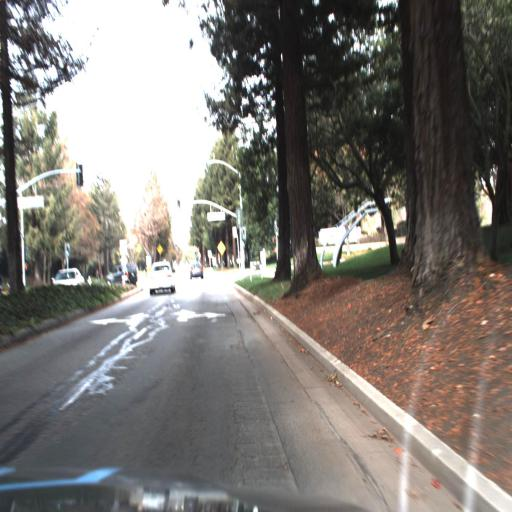car: (147, 259, 175, 298), (51, 266, 86, 287), (54, 266, 84, 288), (106, 264, 137, 285), (107, 265, 135, 288), (189, 260, 205, 282)
trafficLight-Green: (241, 228, 246, 241), (177, 198, 181, 209)
